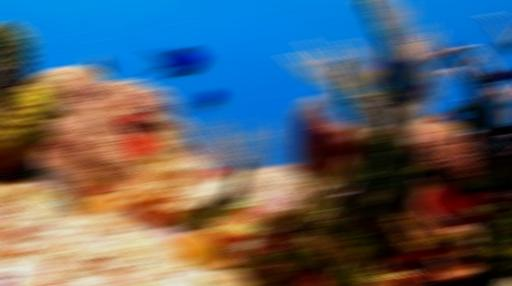Fish: (368, 58, 429, 105), (144, 48, 207, 76), (193, 87, 223, 118), (85, 54, 110, 77), (324, 99, 341, 106)
